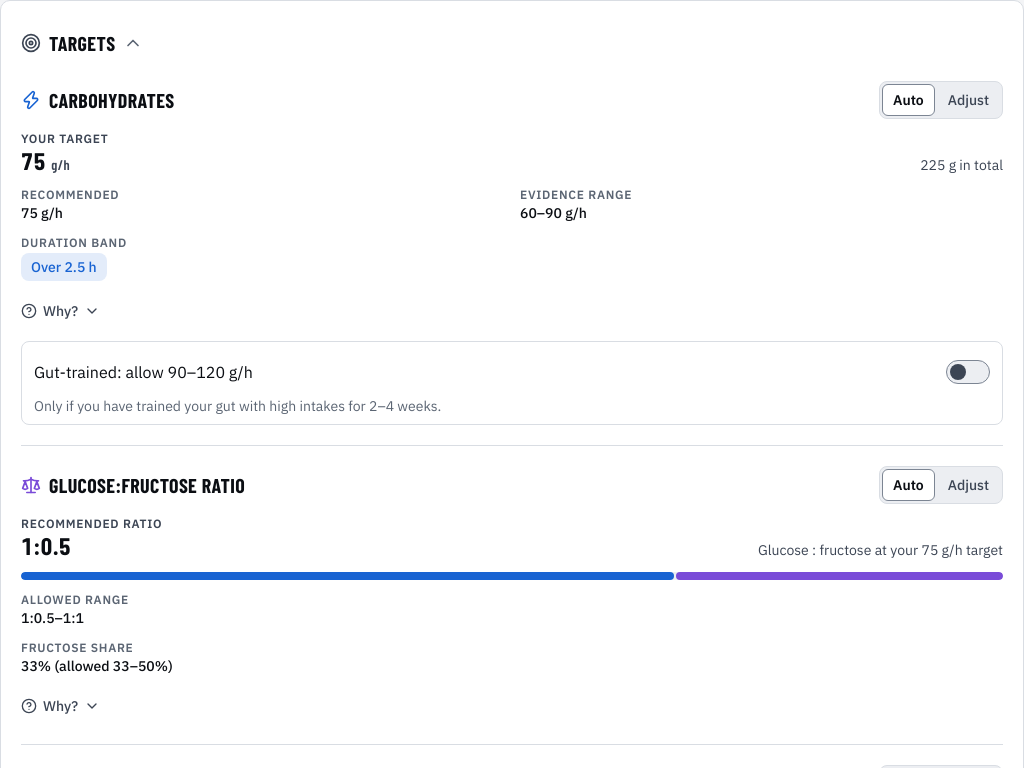
Test: TargetsSection: carbohydrate target › reveals the explanation and citations behind "Why?"
Click the button "Why?" below "Over 2.5 h".
click(60, 311)  # box [21, 293, 100, 329]
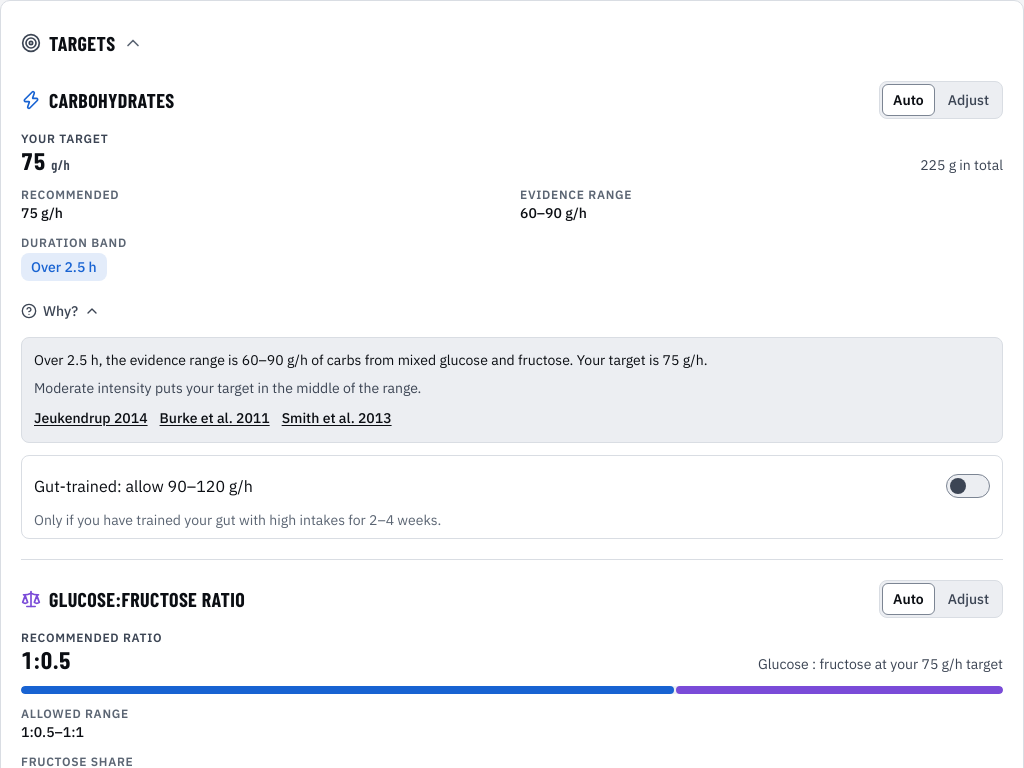
Check: the button "Why?" is expanded, box [21, 293, 100, 329]
Check: the text "Over 2.5 h, the evidence range is 60–90 g/h of carbs from mixed glucose and fructose. Your target is 75 g/h." is shown, box [34, 351, 708, 369]
